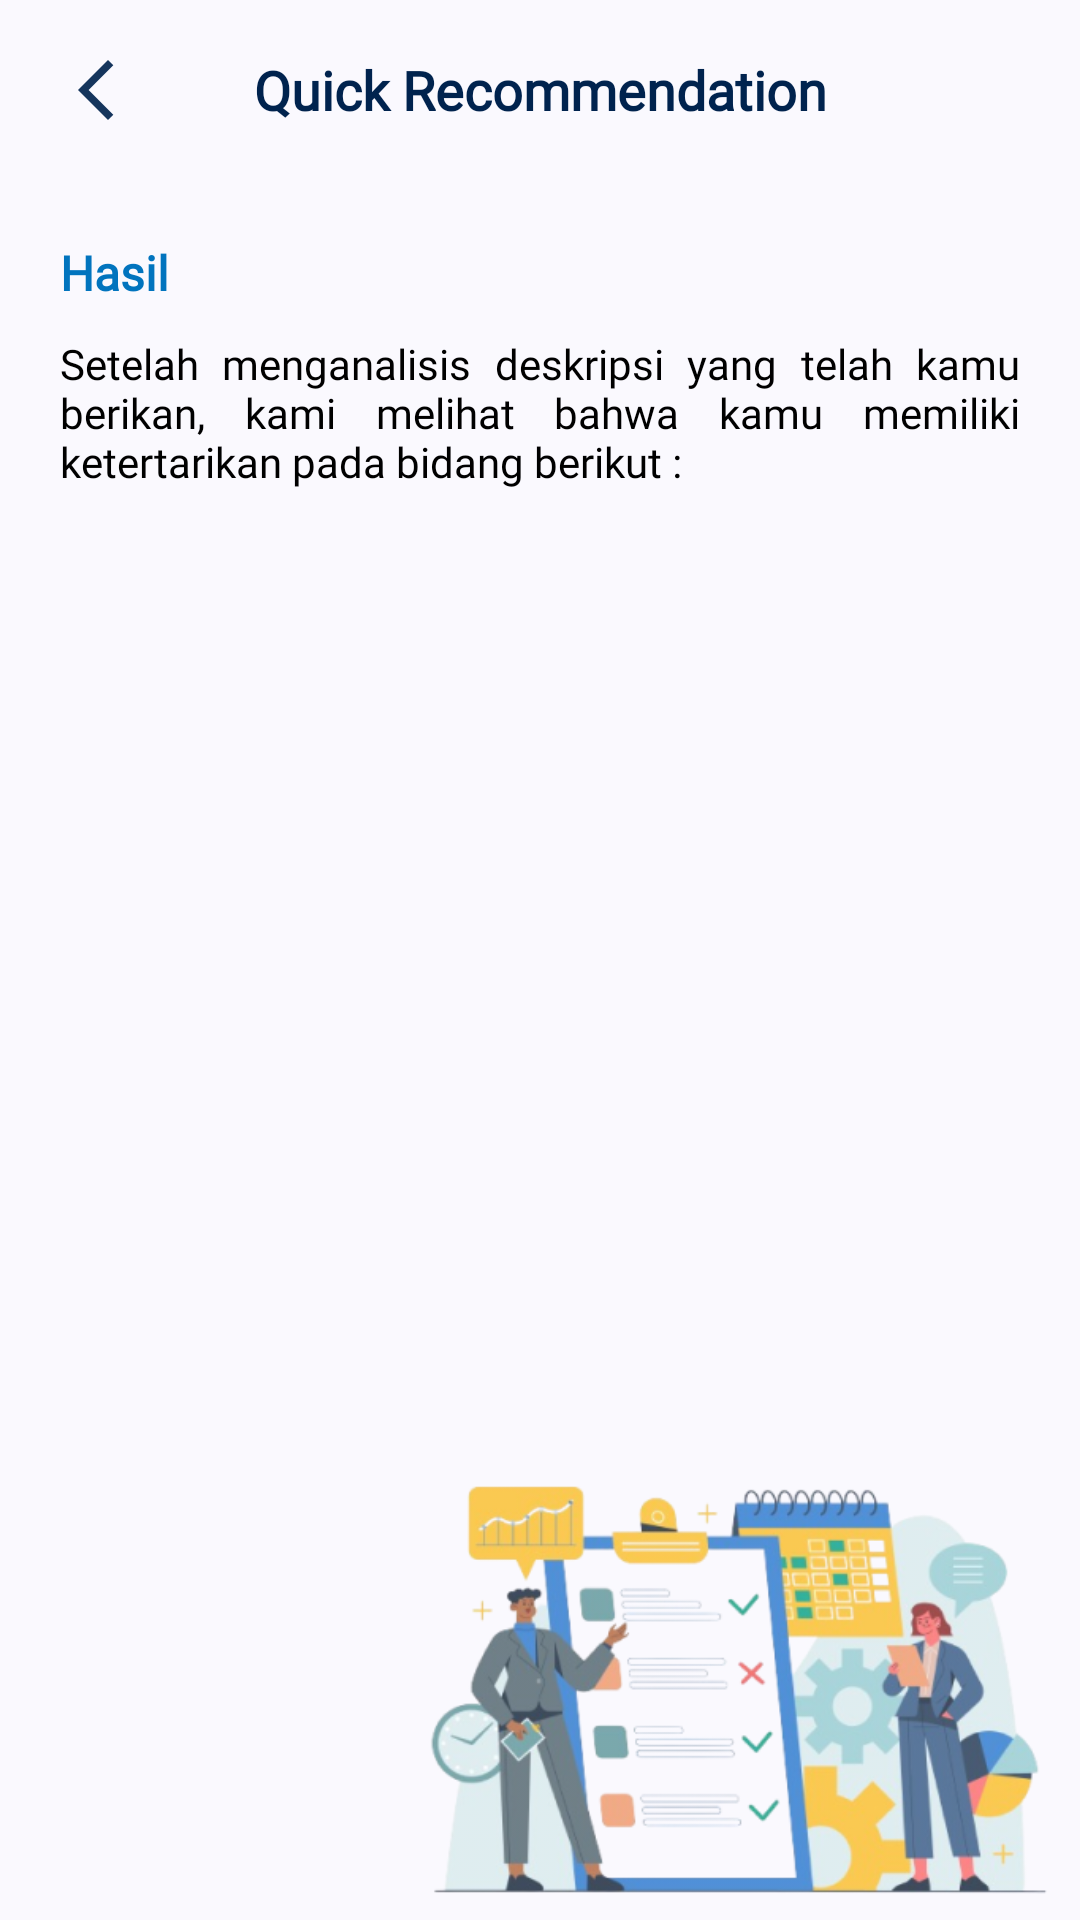

Screen size 1080×1920. Icon name, then its box in pixels as box=[x1, y1, x2, y2]:
Kembali: box=[78, 60, 113, 120]
